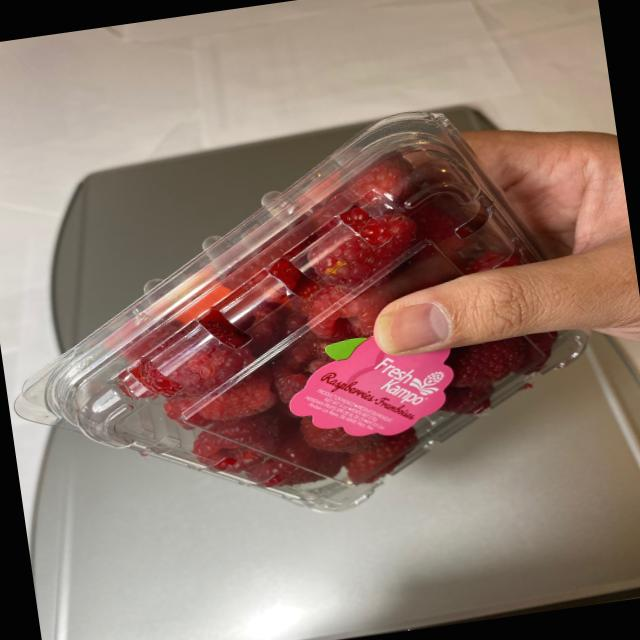raspberries: (77, 137, 542, 512)
